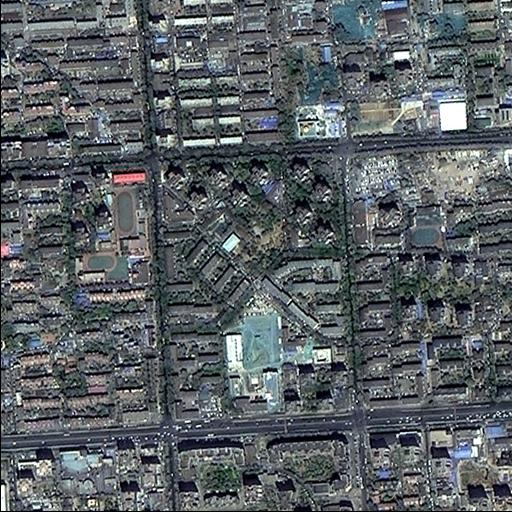school: (84, 183, 154, 281), (405, 202, 447, 253)
